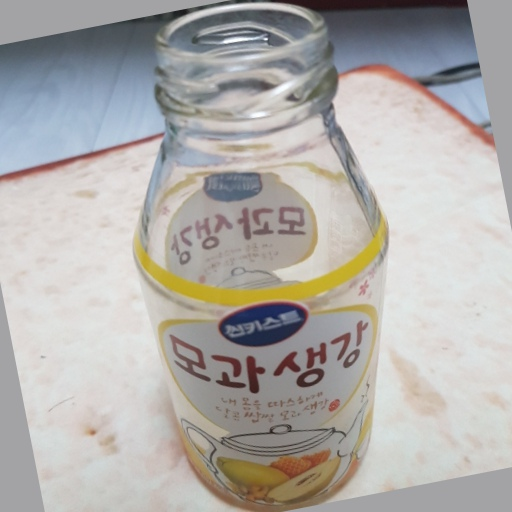Glass_4: (131, 10, 392, 510)
